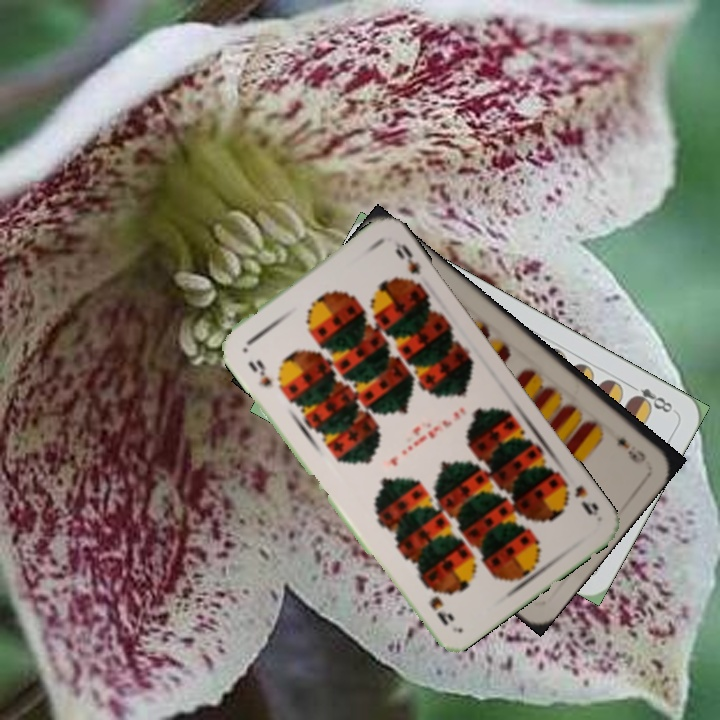E8: (624, 379, 675, 416)
E9: (611, 433, 649, 466)
S9: (556, 473, 602, 519), (244, 356, 275, 390)
